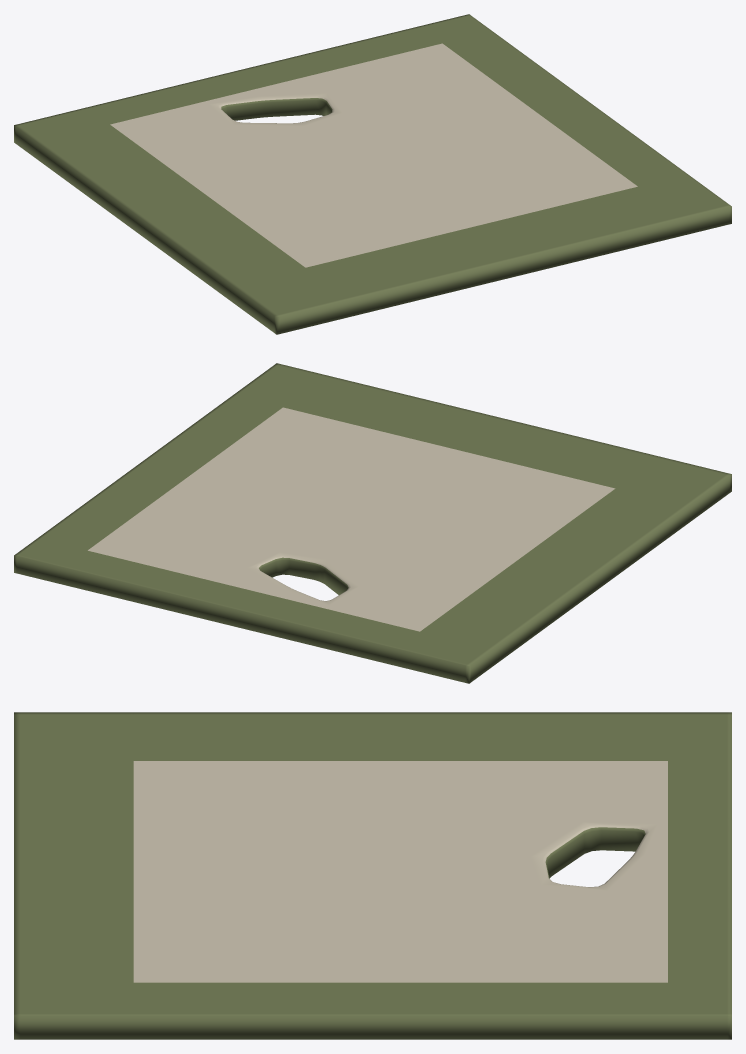
The model's file is Ground_v01.glb.
3 views of the same model, one above another, from view 1: azimuth 30°, elevation 25°; view 2: azimuth 150°, elevation 25°; view 3: azimuth 270°, elevation 25° (orthographic). The views are drawn at different scales.
Visible parts, largest first — view 1: SM_Ground; view 2: SM_Ground; view 3: SM_Ground.
Part boxes in pixels (x1,y1,x2,y2): SM_Ground: (14, 14, 731, 334); SM_Ground: (14, 363, 731, 683); SM_Ground: (14, 712, 731, 1039).
Size of the model in its own units: 16.76 by 0.6096 by 16.76.
